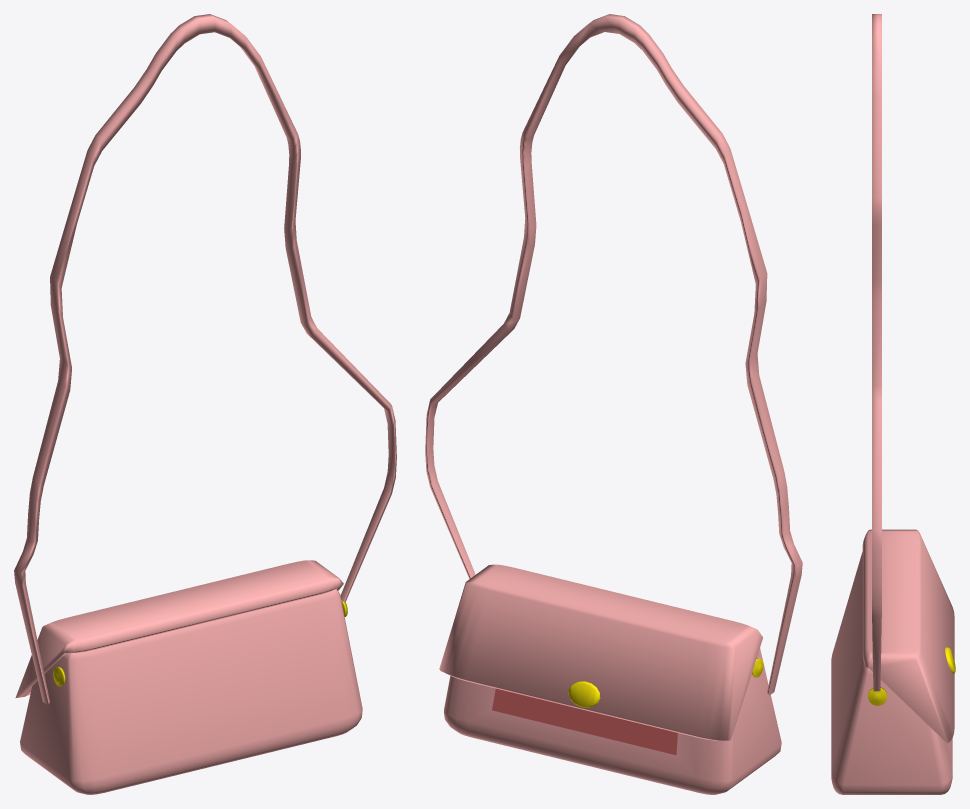
The model's file is Bag-2.fbx.
3 views of the same model, side by side, from view 1: azimuth 30°, elevation 25°; view 2: azimuth 150°, elevation 25°; view 3: azimuth 270°, elevation 25° (orthographic). The views are drawn at different scales.
Visible parts, largest first — view 1: Bag-2; view 2: Bag-2; view 3: Bag-2.
Part boxes in pixels (x1,y1,x2,y2): Bag-2: (14, 14, 396, 794); Bag-2: (425, 14, 802, 794); Bag-2: (831, 14, 955, 794).
Bounding box in the file's own units: 6.16 × 11.43 × 1.8.
